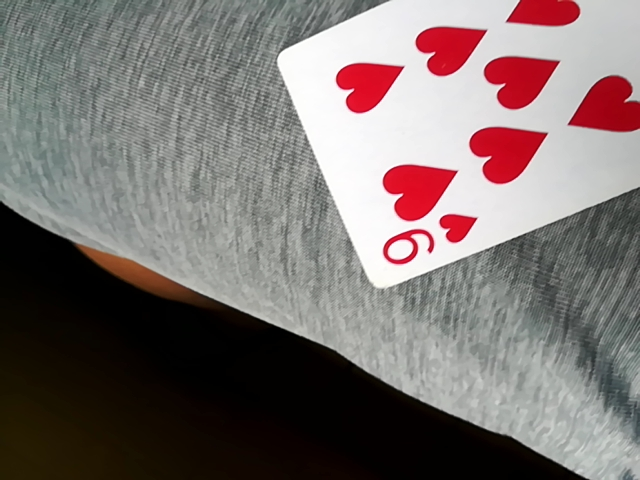hx 9: (273, 0, 639, 294)
